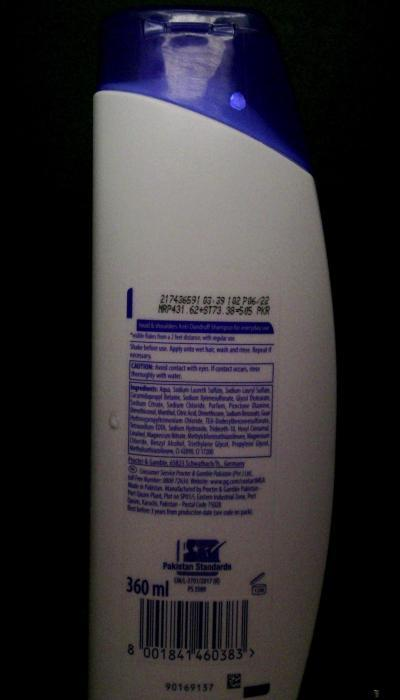pob_marg: (225, 83, 258, 121), (102, 408, 131, 436)
